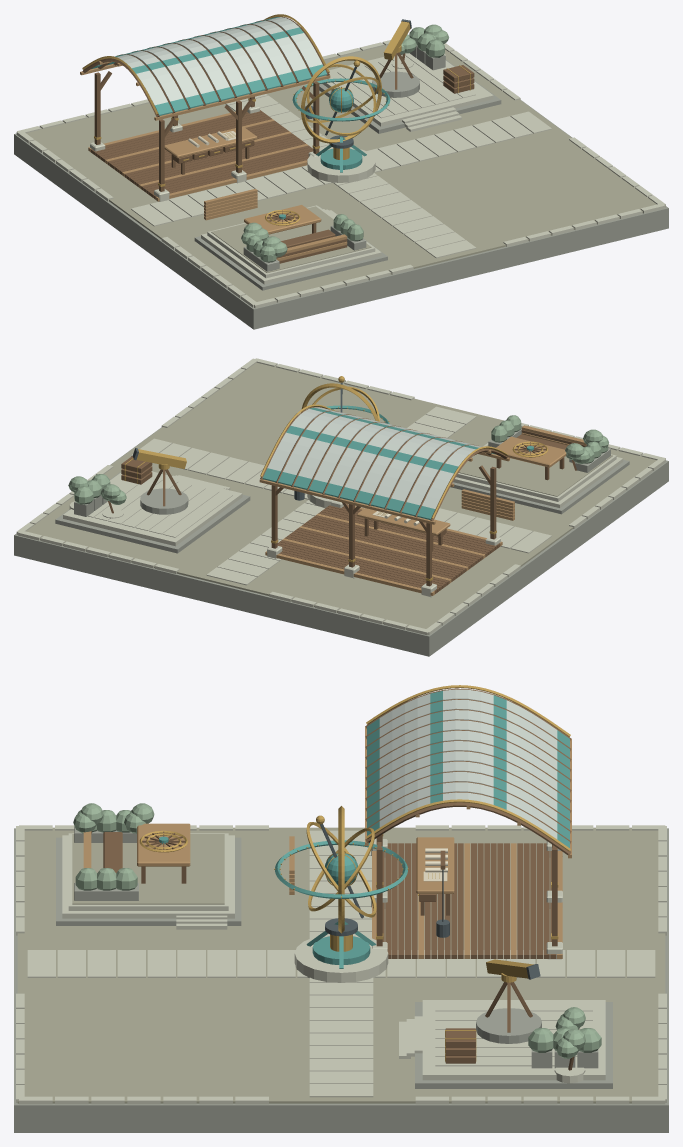
Rendered from sky_workshop-scene.glb.
The picture shows the model from 3 angles, top to bottom: view 1: azimuth 30°, elevation 25°; view 2: azimuth 150°, elevation 25°; view 3: azimuth 270°, elevation 25°; orthographic projection. The views are drawn at different scales.
Visible parts, largest first — view 1: runtime_Warm workshop gravel, runtime_Warm cut limestone, runtime_Weathered island stone, runtime_Smoked oak, runtime_Linen copper washed canopy, runtime_Fresh oak end grain, runtime_Verdigris, runtime_Aged brass, runtime_Dusty sage; view 2: runtime_Warm workshop gravel, runtime_Warm cut limestone, runtime_Weathered island stone, runtime_Smoked oak, runtime_Linen copper washed canopy, runtime_Fresh oak end grain, runtime_Verdigris, runtime_Dusty sage, runtime_Aged brass; view 3: runtime_Warm workshop gravel, runtime_Warm cut limestone, runtime_Weathered island stone, runtime_Smoked oak, runtime_Linen copper washed canopy, runtime_Verdigris, runtime_Fresh oak end grain, runtime_Aged brass, runtime_Dusty sage, runtime_Forged charcoal iron, runtime_Ivory plan rolls.
Part boxes in pixels (x1,y1,x2,y2): runtime_Warm workshop gravel: (26,43,665,302); runtime_Warm cut limestone: (16,40,665,308); runtime_Weathered island stone: (14,45,668,329); runtime_Smoked oak: (82,16,474,263); runtime_Linen copper washed canopy: (97,17,322,105); runtime_Fresh oak end grain: (80,61,347,260); runtime_Verdigris: (91,17,390,219); runtime_Aged brass: (82,14,470,225); runtime_Dusty sage: (241,24,448,262); runtime_Warm workshop gravel: (26,362,656,629); runtime_Warm cut limestone: (16,358,665,635); runtime_Weathered island stone: (14,426,668,656); runtime_Smoked oak: (108,407,586,593); runtime_Linen copper washed canopy: (267,407,481,508); runtime_Fresh oak end grain: (259,425,586,595); runtime_Verdigris: (262,405,533,519); runtime_Dusty sage: (68,415,608,504); runtime_Aged brass: (124,376,548,581); runtime_Warm workshop gravel: (17,827,665,1103); runtime_Warm cut limestone: (16,825,666,1104); runtime_Weathered island stone: (14,826,668,1132); runtime_Smoked oak: (91,688,574,1070); runtime_Linen copper washed canopy: (379,689,557,839); runtime_Verdigris: (159,691,569,968); runtime_Fresh oak end grain: (83,726,571,958); runtime_Aged brass: (139,685,570,1061); runtime_Dusty sage: (73,803,601,1058); runtime_Forged charcoal iron: (320,824,540,979); runtime_Ivory plan rolls: (423,848,447,881).
Bounding box in the file's own units: 25.8 × 8.38 × 25.8.
